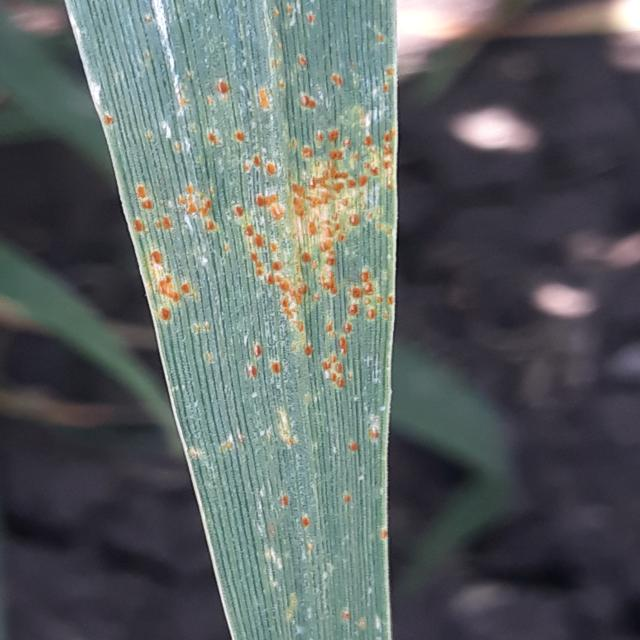orang_rust: (60, 0, 408, 640)
